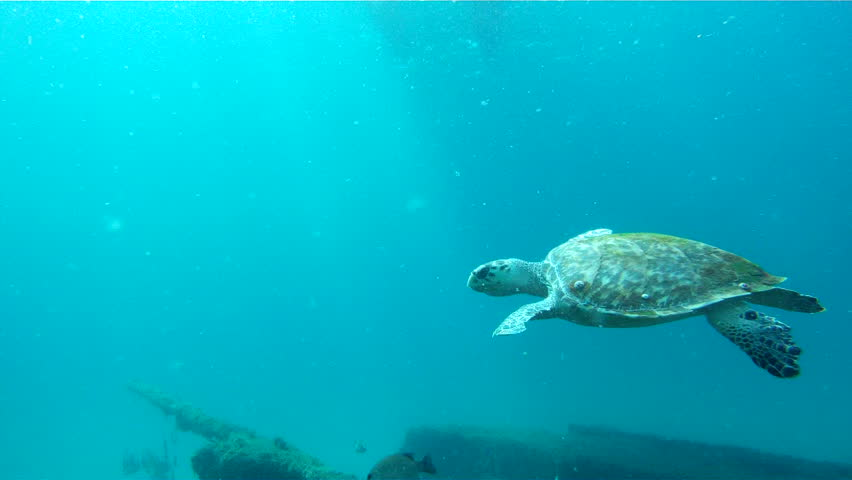trutle: (450, 209, 839, 397)
